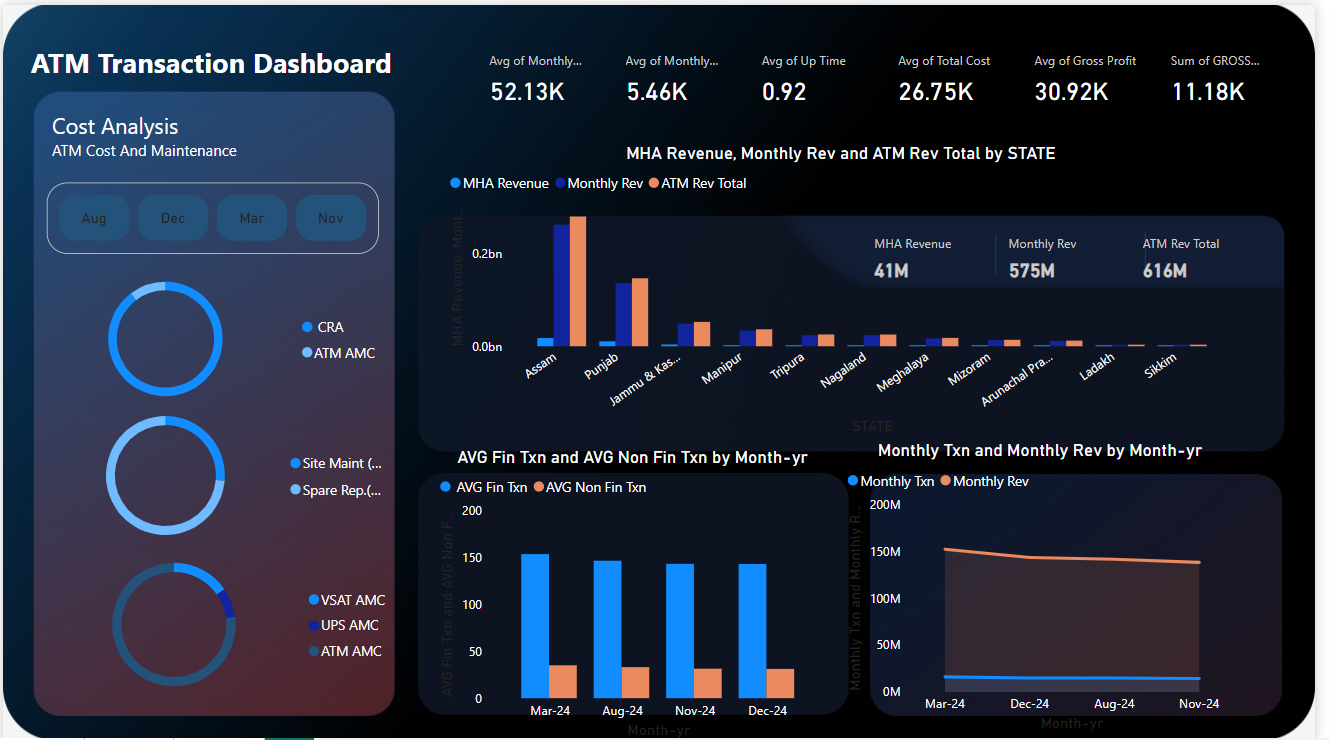

The page's visual inventory and layout, read from the dashboard file:
{"tool":"powerbi","page":{"name":"Overview","canvas":[1280,720],"ordinal":0},"visuals":[{"type":"donutChart","fields":{"Y":["Sum(Dataset.CRA)","Sum(Dataset.ATM AMC)"]},"box":[22,251.1,355.4,149.6],"z":0},{"type":"donutChart","fields":{"Y":["Sum(Dataset.Site Maint (Non Asset))","Sum(Dataset.Spare Rep.(UPS))"]},"box":[32.9,381.5,355.4,155.1],"z":1000},{"type":"donutChart","fields":{"Y":["Sum(Dataset.VSAT AMC)","Sum(Dataset.UPS AMC)","Sum(Dataset.ATM AMC)"]},"box":[31.6,524.2,355.4,160.5],"z":2000},{"type":"clusteredColumnChart","fields":{"Y":["Sum(Dataset.MHA Revenue)","Sum(Dataset.Monthly Rev)","Sum(Dataset.ATM Rev Total)"],"Category":["Dataset.STATE"]},"box":[430.9,134.5,773.9,289.5],"z":3000},{"type":"clusteredColumnChart","fields":{"Y":["Avg(Dataset.AVG Fin Txn)","Avg(Dataset.AVG Non Fin Txn)"],"Category":["Dataset.Month-yr"]},"box":[421.3,430.9,387,289.5],"z":4000},{"type":"areaChart","fields":{"Category":["Dataset.Month-yr"],"Y":["Sum(Dataset.Monthly Txn)","Sum(Dataset.Monthly Rev)"]},"box":[817.8,424,387,289.5],"z":5000},{"type":"advancedSlicerVisual","fields":{"Values":["Dataset.Short_Month"]},"box":[42.7,173.2,324.4,69.5],"z":6000},{"type":"textbox","box":[42.5,97.4,333.4,76.8],"z":6001},{"type":"cardVisual","fields":{"Data":["Avg(Dataset.Monthly Rev)","Avg(Dataset.Monthly Txn)","Avg(Dataset.Up Time)","Avg(Dataset. Total Cost  )","Avg(Dataset. Gross Profit )","Sum(Dataset.GROSS PROFIT %)"]},"box":[457.2,8.4,802.3,127.9],"z":6002},{"type":"cardVisual","fields":{"Data":["Sum(Dataset.MHA Revenue)","Sum(Dataset.Monthly Rev)","Sum(Dataset.ATM Rev Total)"]},"box":[832.4,207.5,396.9,71.2],"z":6003},{"type":"textbox","box":[21.7,32.6,399.3,53.1],"z":6004}]}

Visuals, with their boxes in screenshot pixels (x1, y1, x2, y2), scaled from the page's 1280x720 canvas onto the 1330x740 screenshot:
donutChart - Sum(Dataset.CRA) x Sum(Dataset.ATM AMC): 23/258/392/412
donutChart - Sum(Dataset.Site Maint (Non Asset)) x Sum(Dataset.Spare Rep.(UPS)): 34/392/403/552
donutChart - Sum(Dataset.VSAT AMC) x Sum(Dataset.UPS AMC): 33/539/402/704
clusteredColumnChart - Sum(Dataset.MHA Revenue) x Sum(Dataset.Monthly Rev): 448/138/1252/436
clusteredColumnChart - Avg(Dataset.AVG Fin Txn) x Avg(Dataset.AVG Non Fin Txn): 438/443/840/739
areaChart - Dataset.Month-yr x Sum(Dataset.Monthly Txn): 850/436/1252/733
advancedSlicerVisual - Dataset.Short_Month: 44/178/381/249
textbox: 44/100/391/179
cardVisual - Avg(Dataset.Monthly Rev) x Avg(Dataset.Monthly Txn): 475/9/1309/140
cardVisual - Sum(Dataset.MHA Revenue) x Sum(Dataset.Monthly Rev): 865/213/1277/286
textbox: 23/34/437/88
